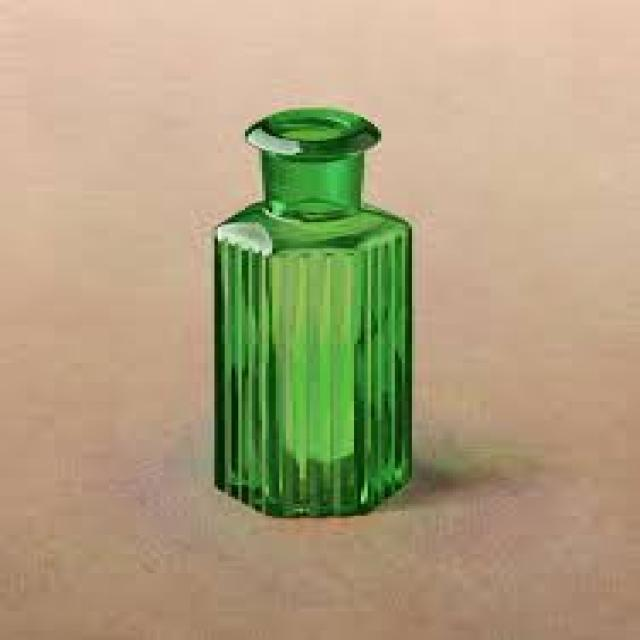glass: (211, 105, 409, 516)
